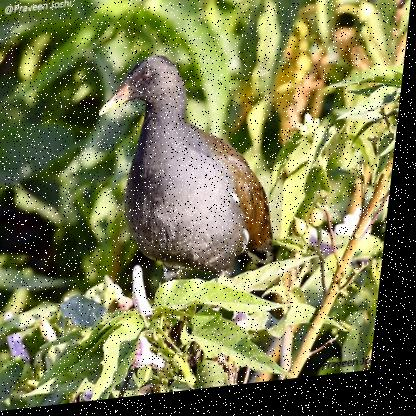Burung: (84, 47, 296, 293)
